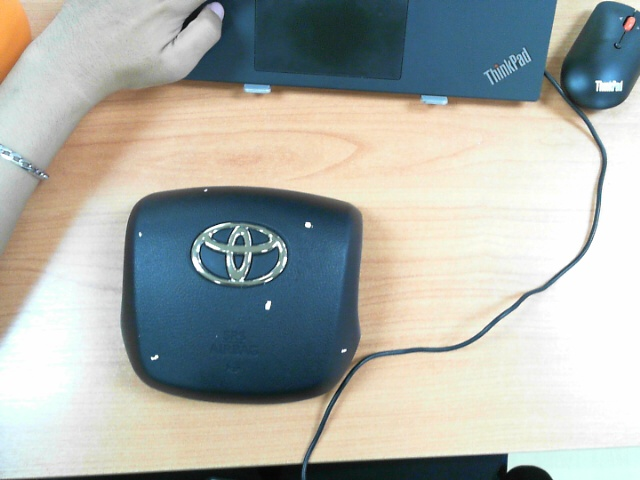Airbag: (304, 221, 314, 230), (264, 300, 272, 311), (150, 354, 159, 361), (340, 348, 348, 354), (138, 231, 143, 239), (204, 188, 208, 193)
